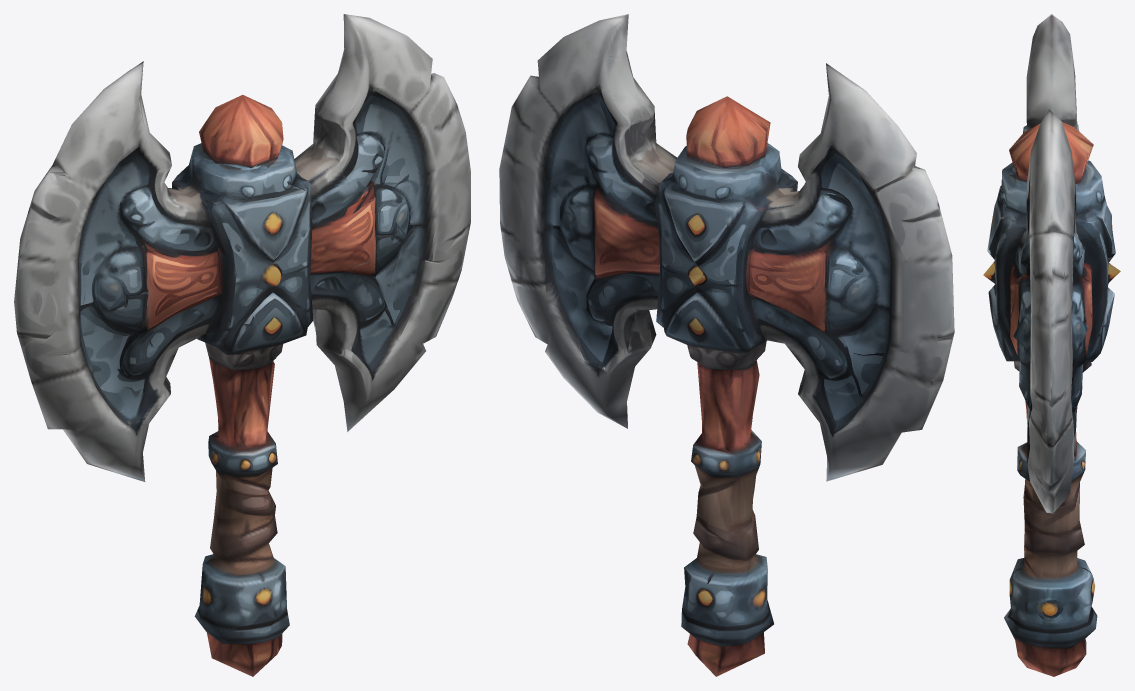
Rendered from Meshy_AI_Crescentbound_War_Axe_0317040033_texture.glb.
3 views of the same model, side by side, from view 1: azimuth 30°, elevation 25°; view 2: azimuth 150°, elevation 25°; view 3: azimuth 270°, elevation 25° (orthographic). The views are drawn at different scales.
Size of the model in its own units: 1.51 by 2 by 0.4116.
1 material, 1 textured.
